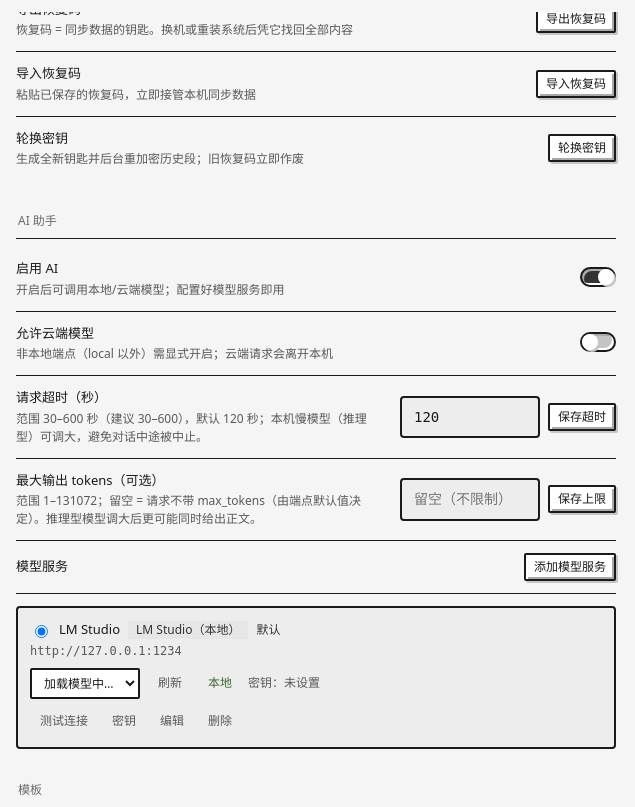
设置页 · AI 请求参数（TASK-T46-01 §1.1） › 保存超时 300 → setChatConfig({requestTimeoutSec:300}) → 反馈用 main 回包生效值
(page scrolled)
Replace the text in the number field named "请求超时（秒）" with "300" at point(470, 417), box [400,396,540,438]
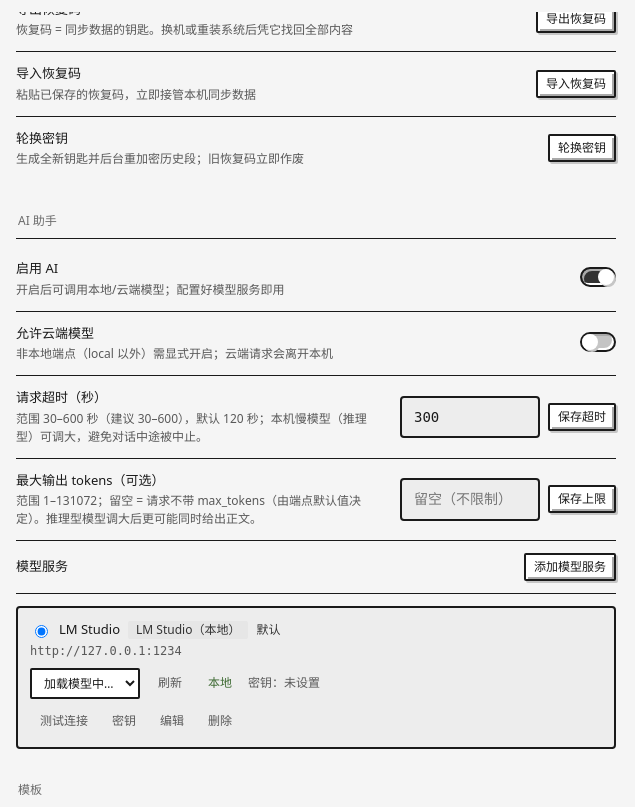
Click the button "保存超时" at point(582, 417), box [548,403,616,431]
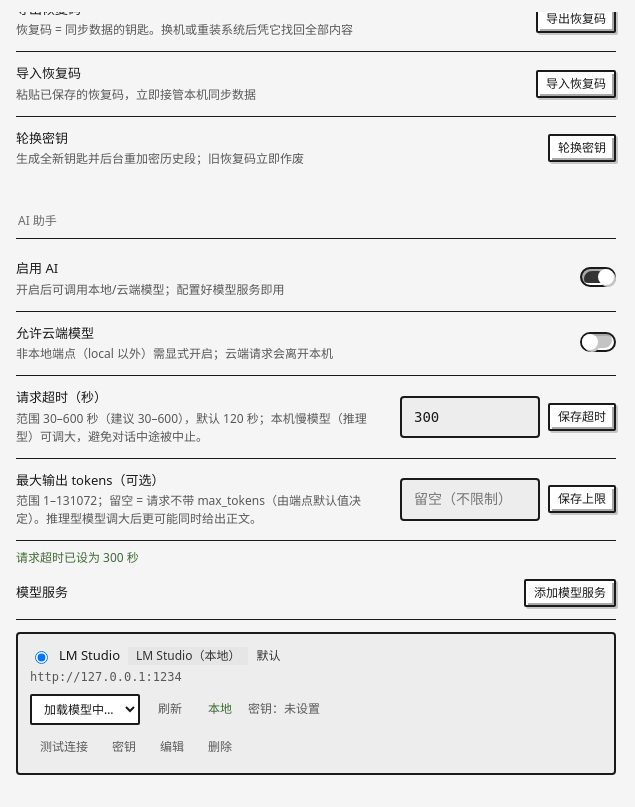
Check: the text "请求超时已设为 300 秒" is shown, box [16,549,139,566]
